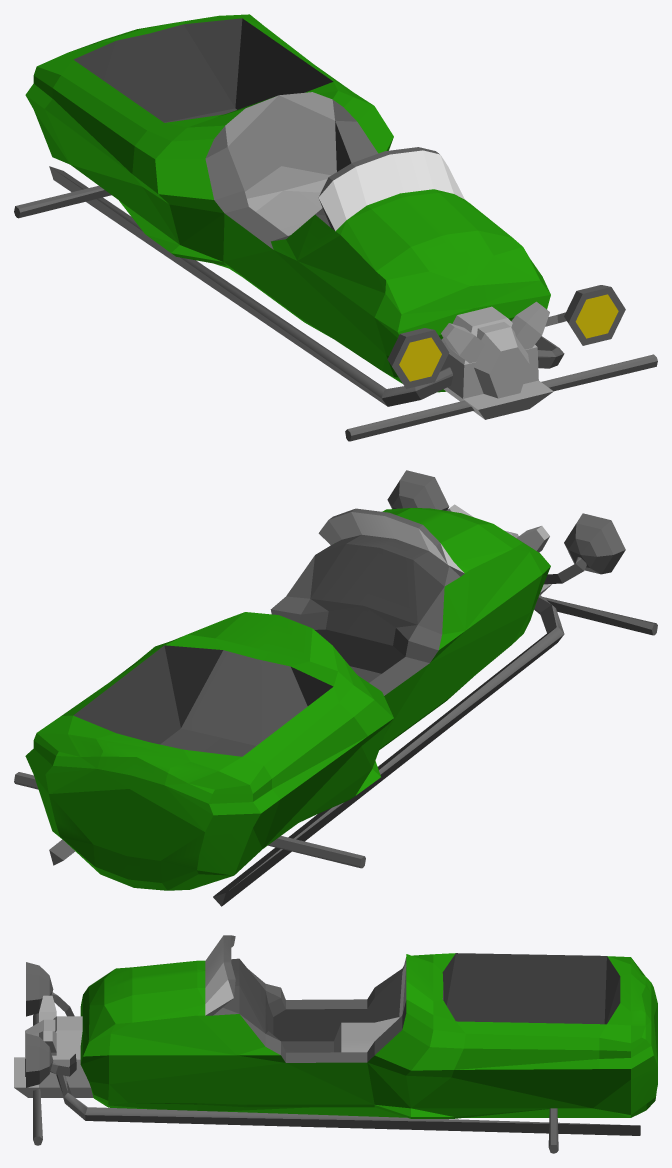
Rendered from aceNSpadesBody 1.fbx.
3 renders of one model, top to bottom at view 1: azimuth 30°, elevation 25°; view 2: azimuth 150°, elevation 25°; view 3: azimuth 270°, elevation 25°, orthographic. The views are drawn at different scales.
Visible parts, largest first — view 1: polySurface30; view 2: polySurface30; view 3: polySurface30.
Boxes of the visible parts, x1,y1,x2,y2 form: polySurface30: (14, 14, 657, 441); polySurface30: (14, 470, 657, 906); polySurface30: (14, 935, 657, 1153).
Size of the model in its own units: 12.45 by 6.56 by 24.26.
